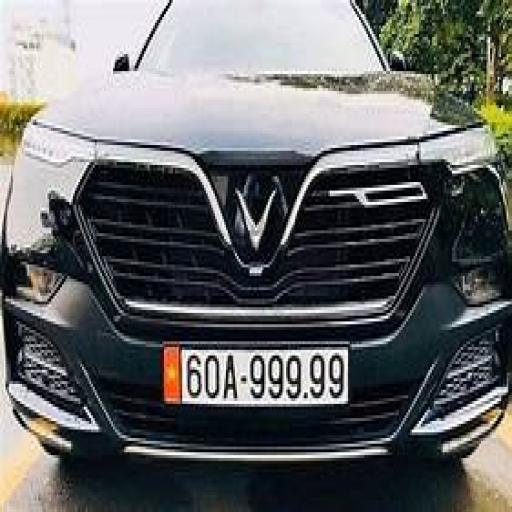place: (182, 350, 347, 405)
